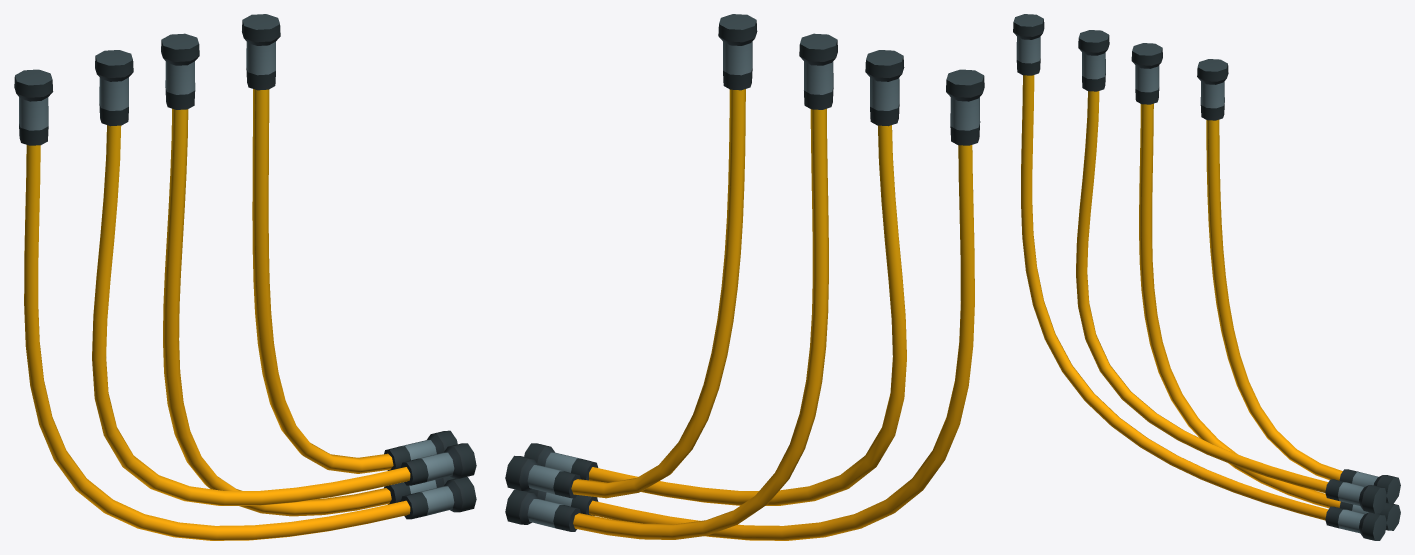
File: Cable_type_C_001.fbx
The picture shows the model from 3 angles, left to right: view 1: azimuth 30°, elevation 25°; view 2: azimuth 150°, elevation 25°; view 3: azimuth 330°, elevation 25°; orthographic projection. The views are drawn at different scales.
Visible parts, largest first — view 1: Cable_type_C_001; view 2: Cable_type_C_001; view 3: Cable_type_C_001.
Part boxes in pixels (x1=…): Cable_type_C_001: x1=14, y1=14, x2=476, y2=540; Cable_type_C_001: x1=505, y1=14, x2=984, y2=540; Cable_type_C_001: x1=1013, y1=14, x2=1400, y2=540.
Bounding box in the file's own units: 116 × 15.95 × 132.
